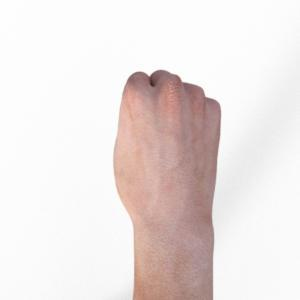rock: (114, 70, 220, 261)
